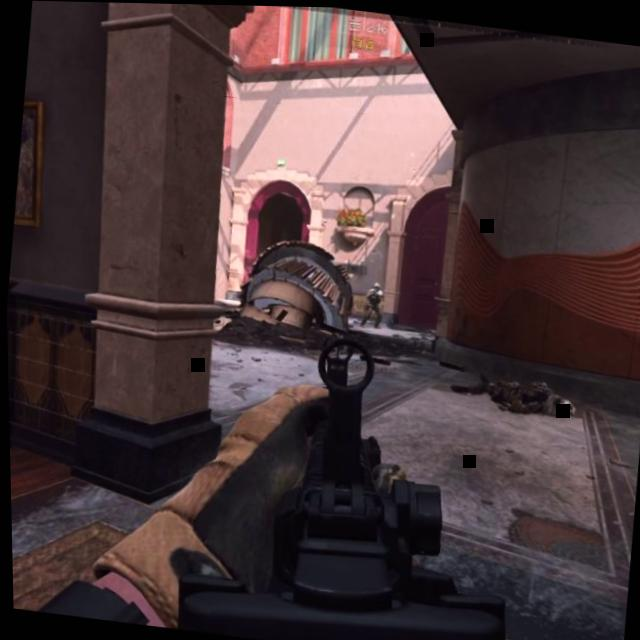MW2_body: (357, 278, 385, 328)
